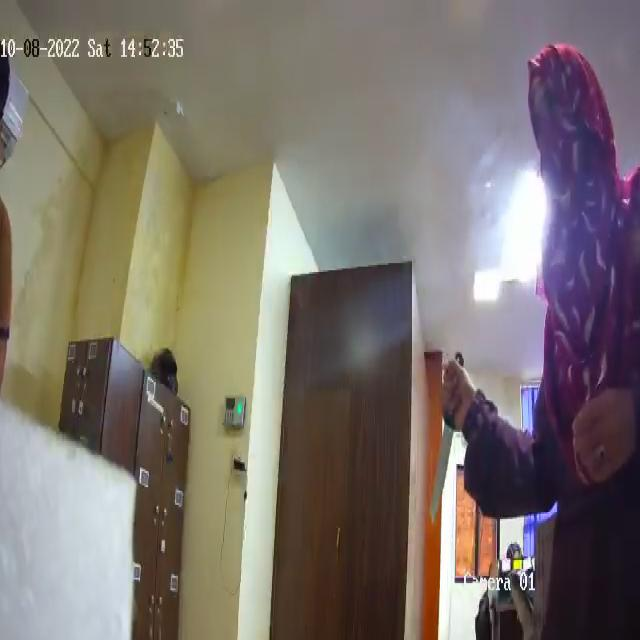Knife: (421, 345, 469, 519)
